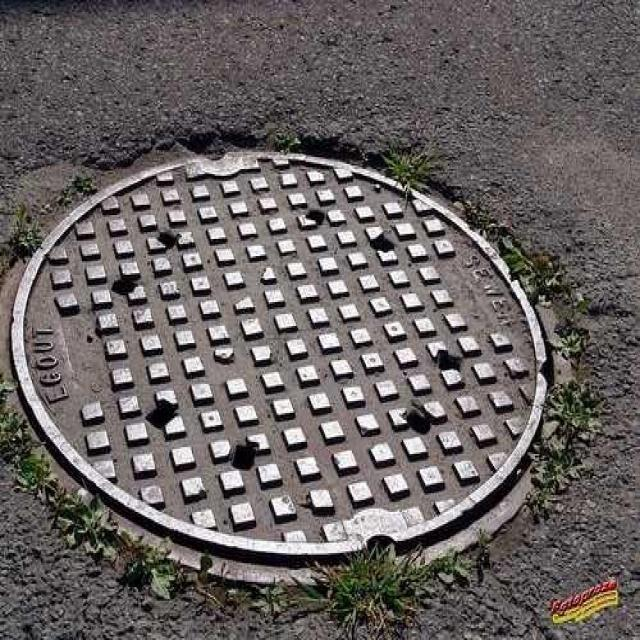manhole: (9, 150, 553, 584)
